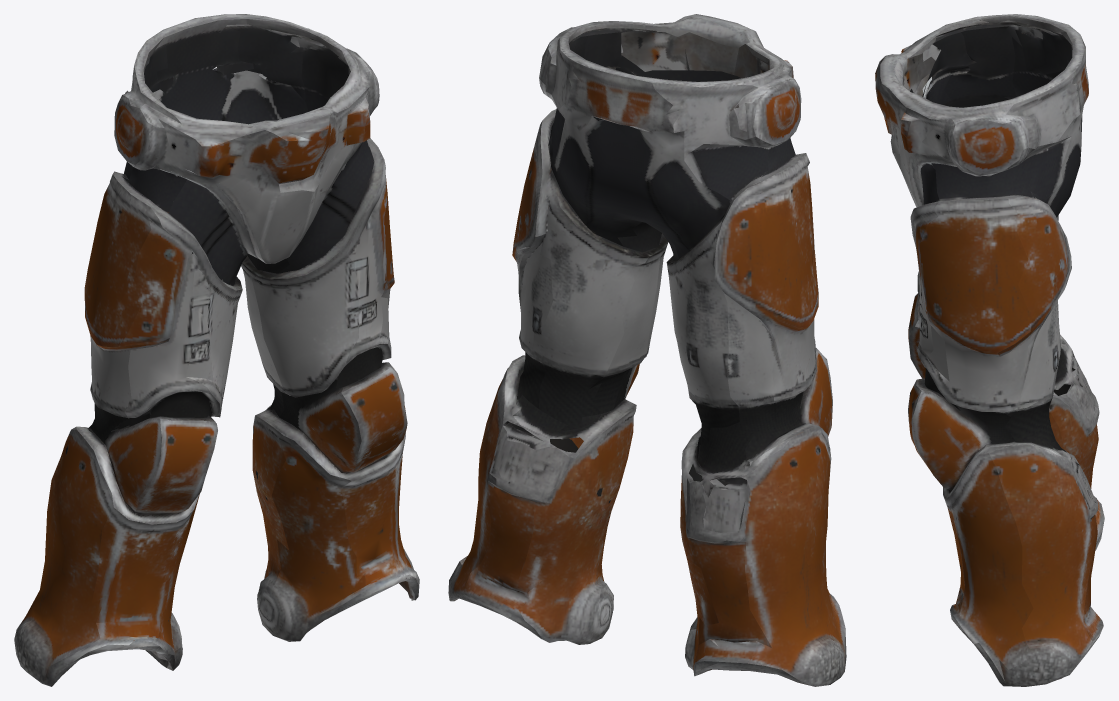
The model's file is bottoms_registered.glb.
3 views of the same model, side by side, from view 1: azimuth 30°, elevation 25°; view 2: azimuth 150°, elevation 25°; view 3: azimuth 270°, elevation 25° (orthographic). The views are drawn at different scales.
Visible parts, largest first — view 1: RBX_LC_bottoms; view 2: RBX_LC_bottoms; view 3: RBX_LC_bottoms.
Part boxes in pixels (x1=…): RBX_LC_bottoms: x1=14, y1=14, x2=419, y2=686; RBX_LC_bottoms: x1=448, y1=14, x2=846, y2=686; RBX_LC_bottoms: x1=875, y1=14, x2=1104, y2=686.
Bounding box in the file's own units: 0.3222 × 0.4893 × 0.1789.
Materials: 1 (1 with a texture image).
